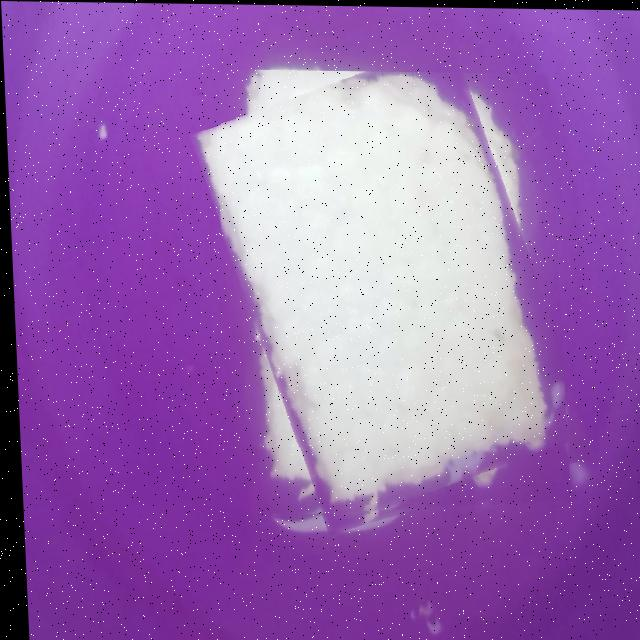thermocoal: (212, 67, 566, 520)
